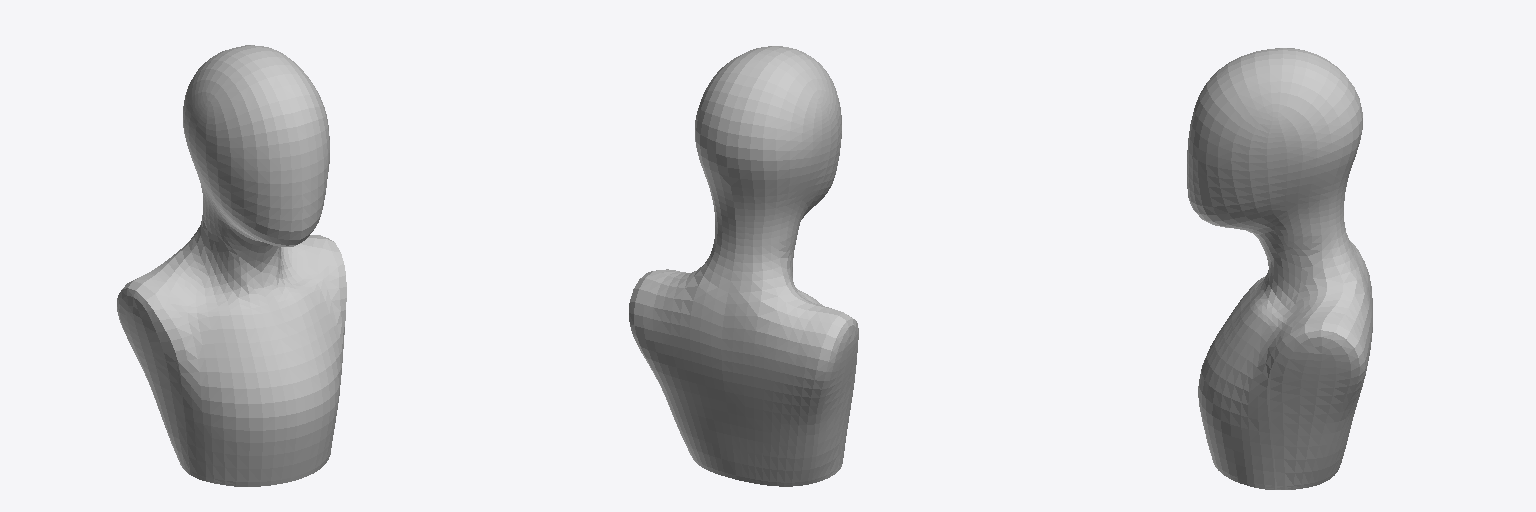
Rendered from mannequin.obj.
3 renders of one model, left to right at view 1: azimuth 30°, elevation 25°; view 2: azimuth 150°, elevation 25°; view 3: azimuth 270°, elevation 25°, orthographic.
Parts seen in each view (by area): view 1: Solid_Wood_Female_Mannequin_Head_convert:Solid_Wood_Female_Manne; view 2: Solid_Wood_Female_Mannequin_Head_convert:Solid_Wood_Female_Manne; view 3: Solid_Wood_Female_Mannequin_Head_convert:Solid_Wood_Female_Manne.
Boxes of the visible parts, x1=… form: Solid_Wood_Female_Mannequin_Head_convert:Solid_Wood_Female_Manne: x1=117, y1=45, x2=346, y2=486; Solid_Wood_Female_Mannequin_Head_convert:Solid_Wood_Female_Manne: x1=629, y1=46, x2=858, y2=486; Solid_Wood_Female_Mannequin_Head_convert:Solid_Wood_Female_Manne: x1=1187, y1=48, x2=1372, y2=489.
Size of the model in its own units: 2.79 by 5.24 by 2.19.